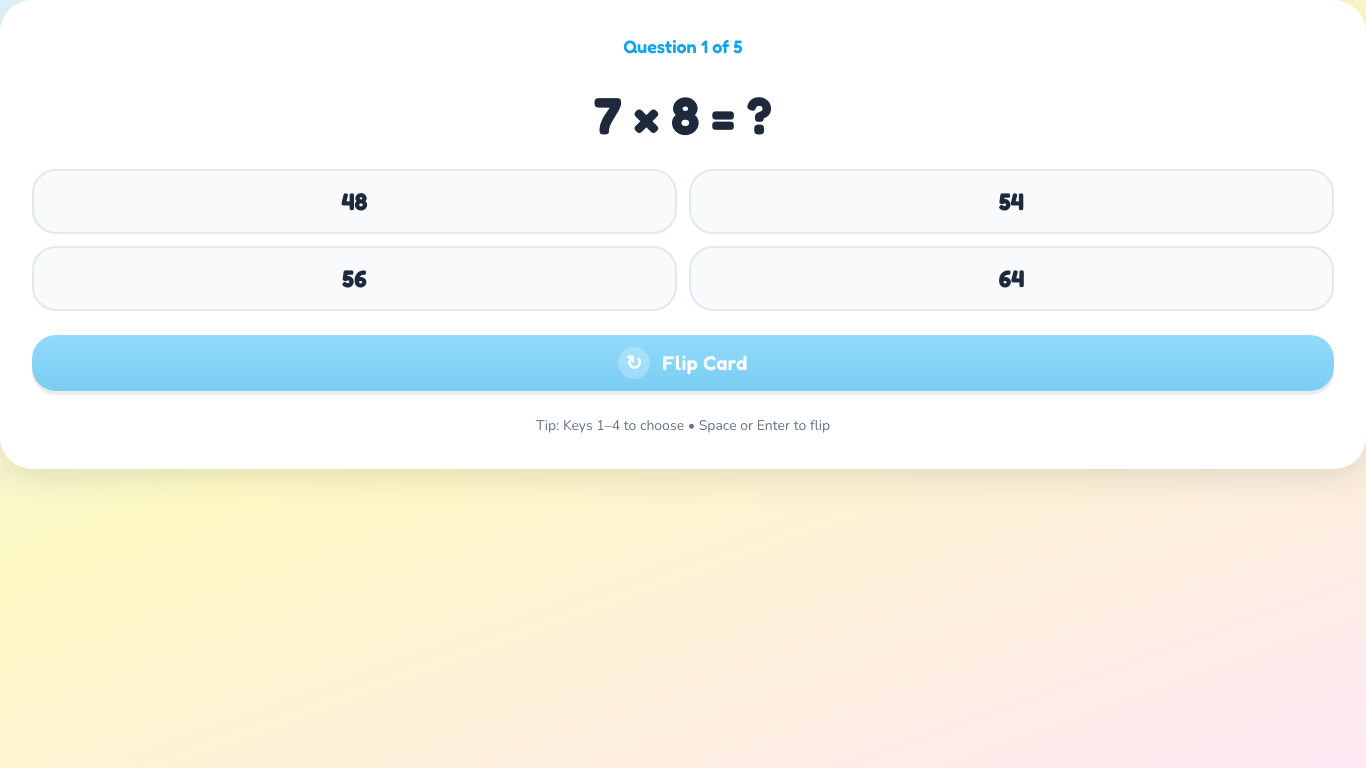
it: QuestionCard › allows answer selection and flipping
The image size is (1366, 768).
Click the button named "answer choice 3: 56": (354, 278) [32,246,677,311]
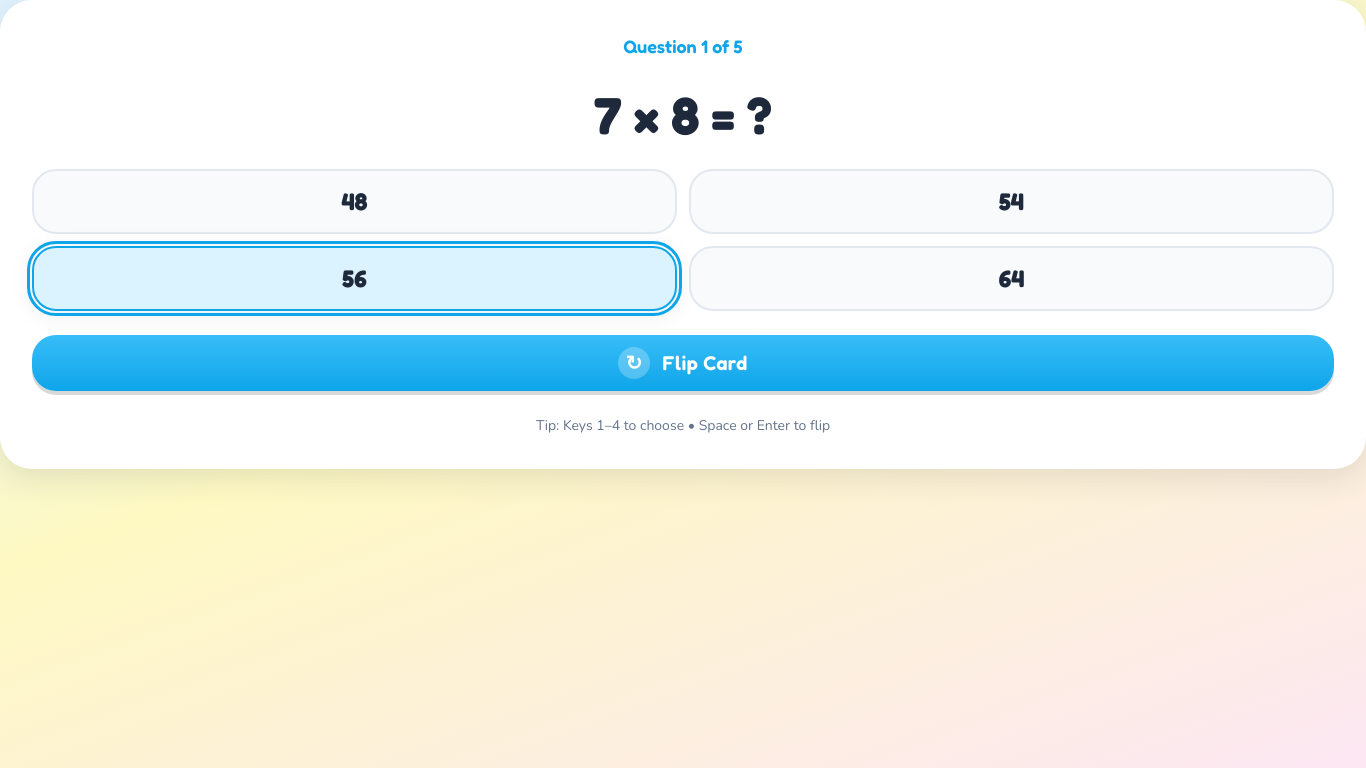
Check: the button "↻ Flip Card" is enabled
Click the button "↻ Flip Card": (683, 363) [32,335,1334,391]
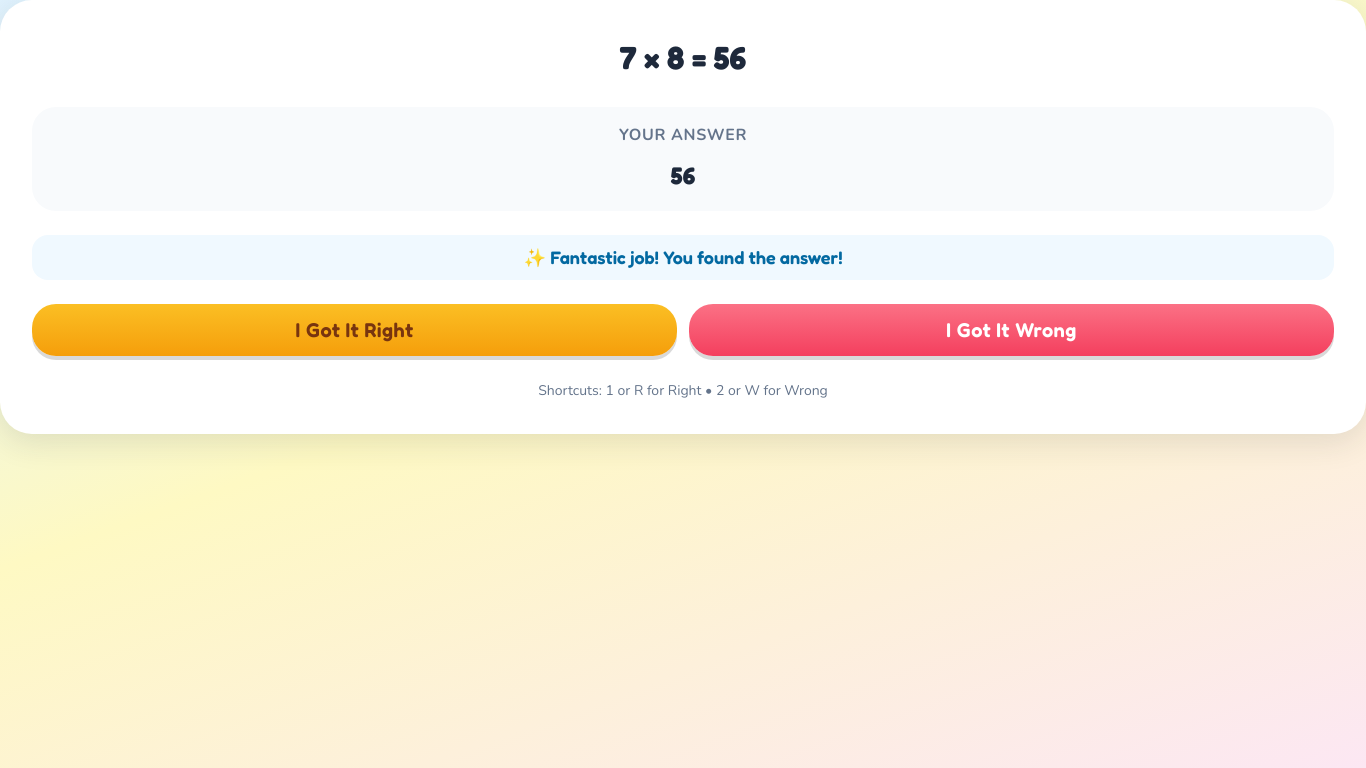
Check: the text "7 × 8 = 56" is shown, box [620,38,746,77]
Check: the text "Your answer" is shown, box [619,124,747,146]
